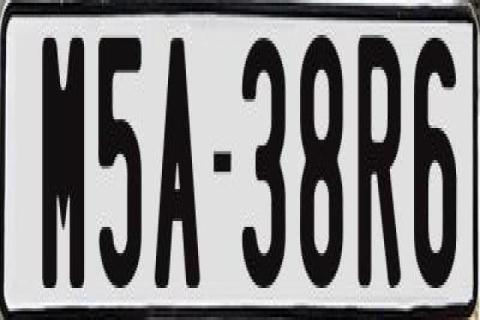0: (98, 29, 148, 294), (239, 29, 285, 288), (298, 32, 340, 302), (414, 35, 456, 291)
A: (152, 32, 199, 294)
M: (41, 35, 89, 299)
R: (356, 27, 402, 286)
